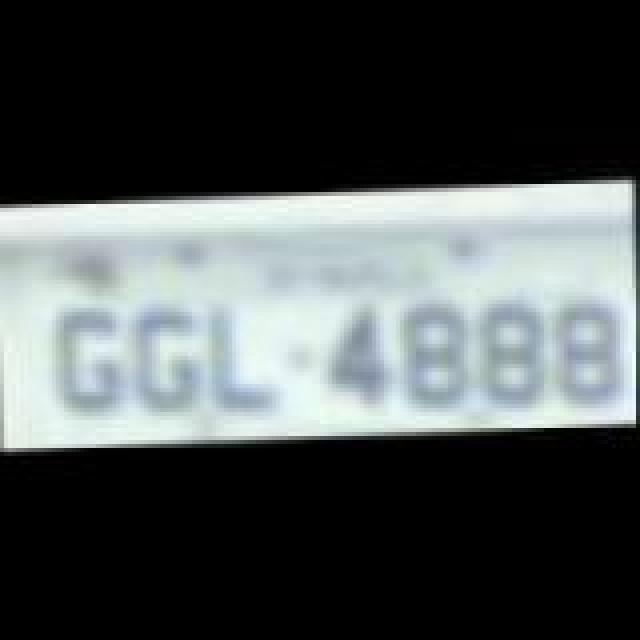4: (320, 304, 396, 412)
8: (552, 296, 628, 408), (476, 300, 544, 408), (402, 306, 466, 414)
G: (58, 308, 130, 420), (130, 306, 202, 418)
L: (206, 304, 286, 416)
